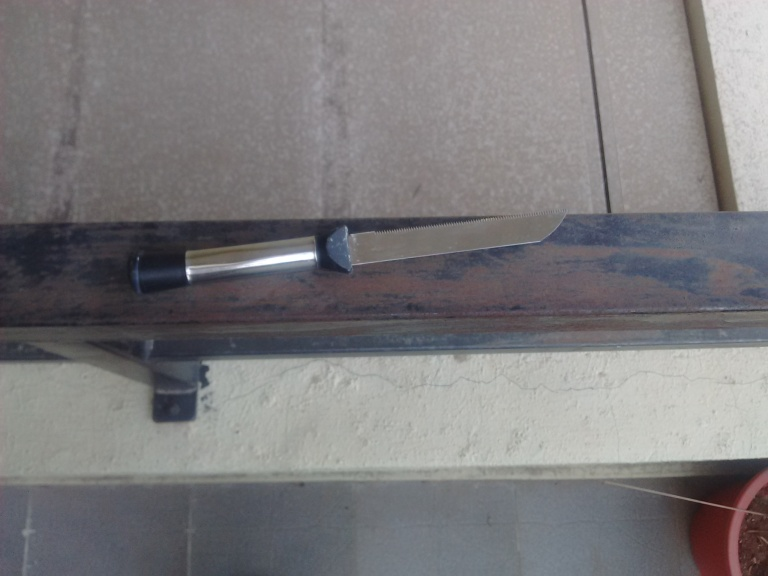knife: (133, 206, 568, 292)
